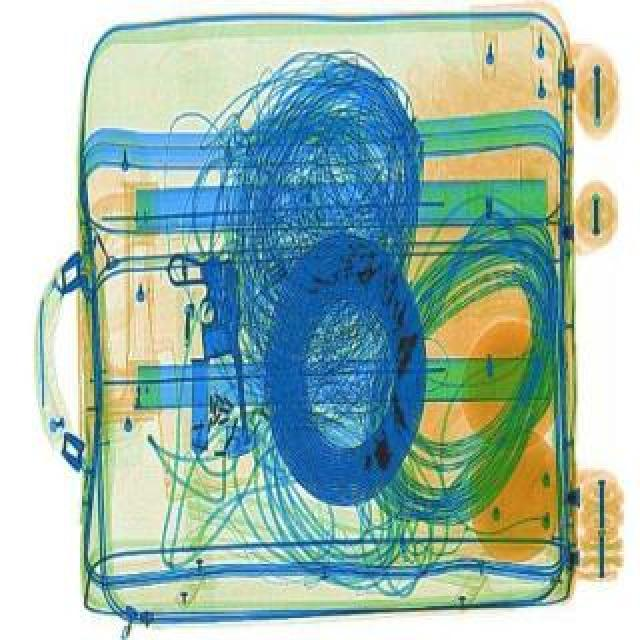gun: (168, 244, 260, 458)
